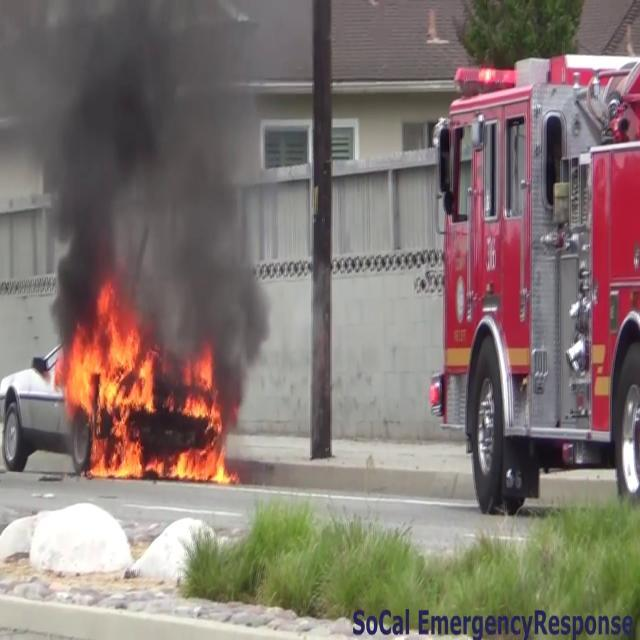Fire: (61, 298, 230, 486)
Smoke: (6, 0, 282, 354)
